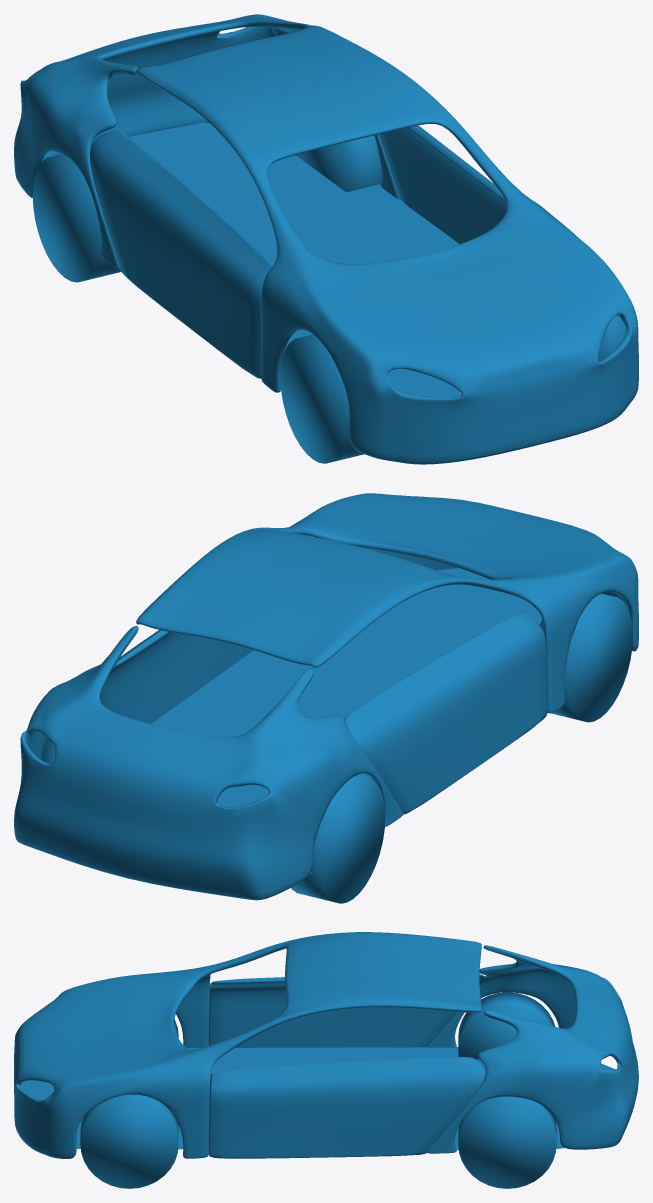
The model's file is car.v2.export.gltf.
The picture shows the model from 3 angles, top to bottom: view 1: azimuth 30°, elevation 25°; view 2: azimuth 150°, elevation 25°; view 3: azimuth 270°, elevation 25°; orthographic projection. The views are drawn at different scales.
Visible parts, largest first — view 1: 平面.003; view 2: 平面.003; view 3: 平面.003.
Part boxes in pixels (bbox=[...]): 平面.003: bbox=[14, 14, 638, 464]; 平面.003: bbox=[14, 493, 638, 903]; 平面.003: bbox=[14, 932, 638, 1188].
Size of the model in its own units: 2.54 by 1.87 by 6.21.
